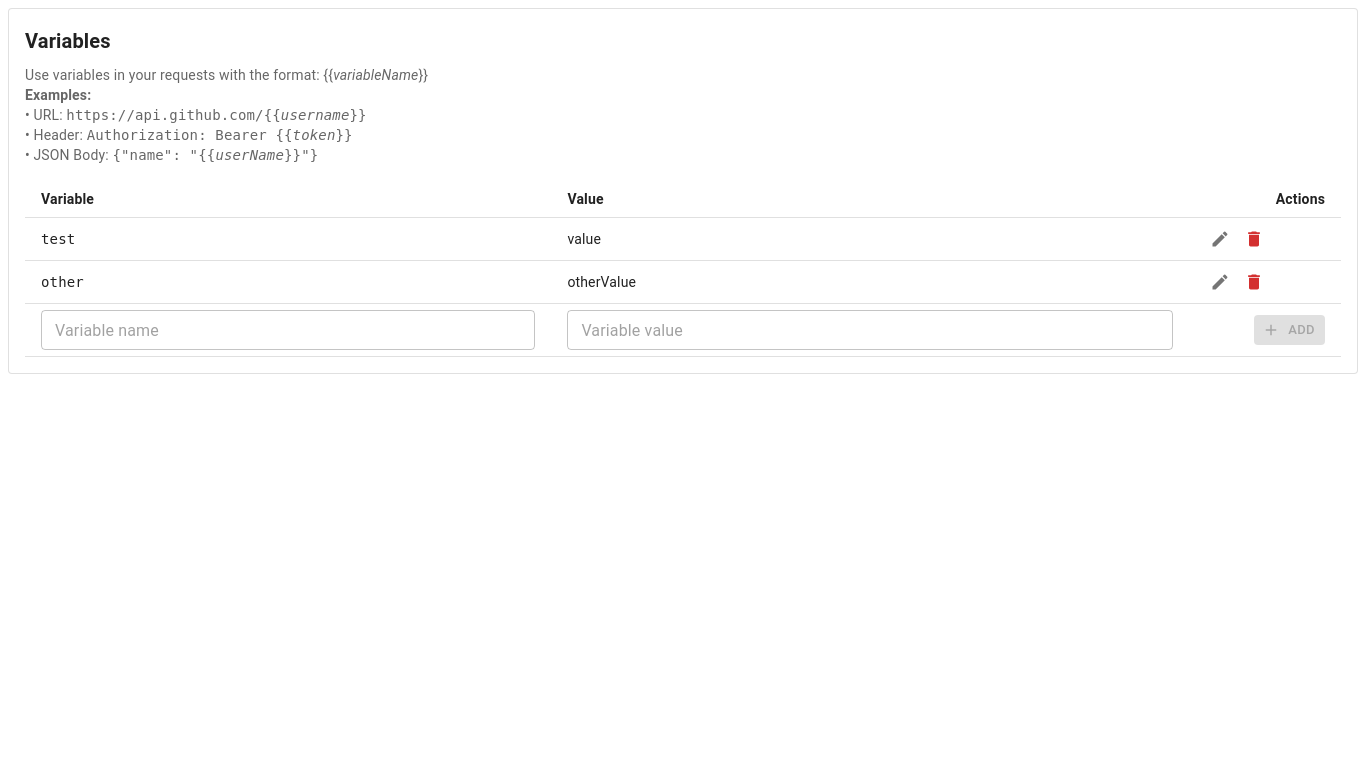
Test: ExistingVariables › should show error snackbar when saving with duplicate name
Click the button titled "Edit" in the row of "test".
click(1220, 239)  # box left=1205, top=224, right=1235, bottom=254
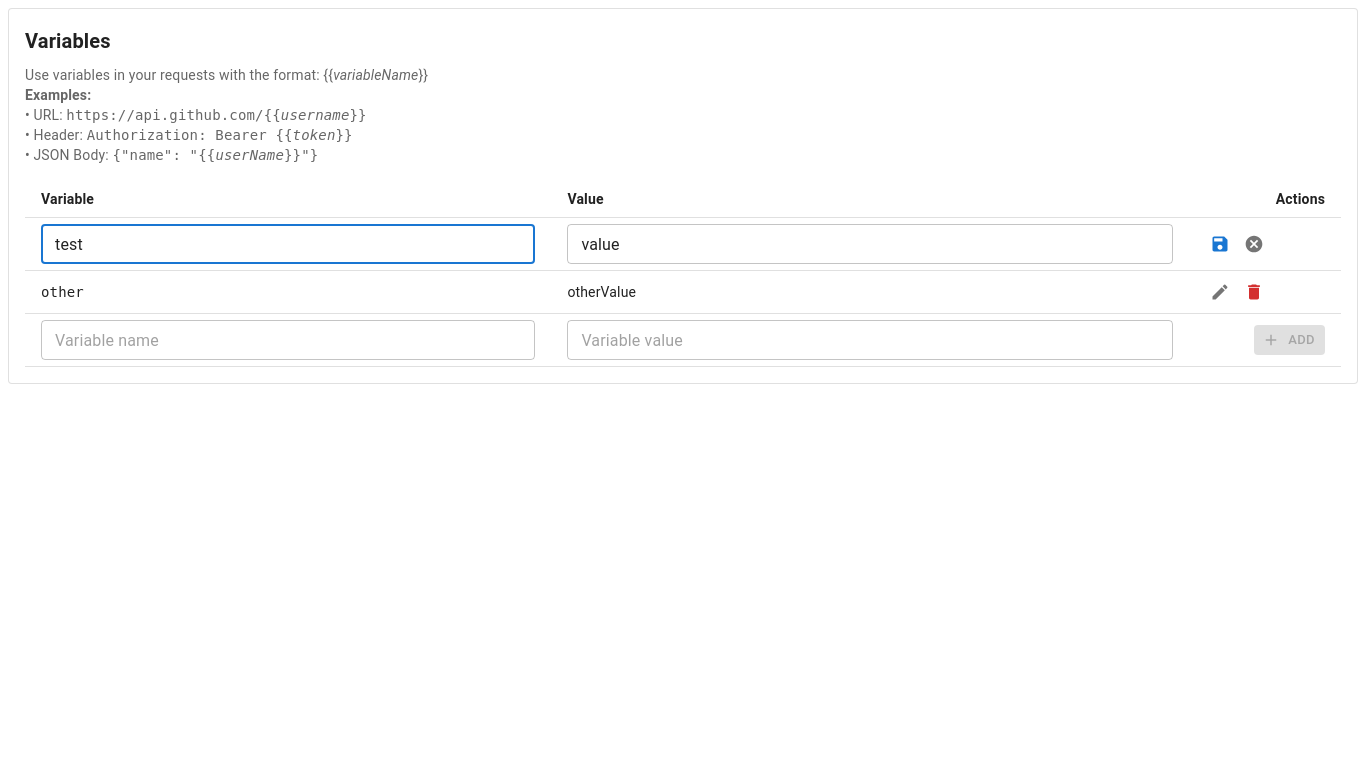
Replace the text in the 1st field showing "test" with "other" at (288, 244), box left=41, top=224, right=535, bottom=264
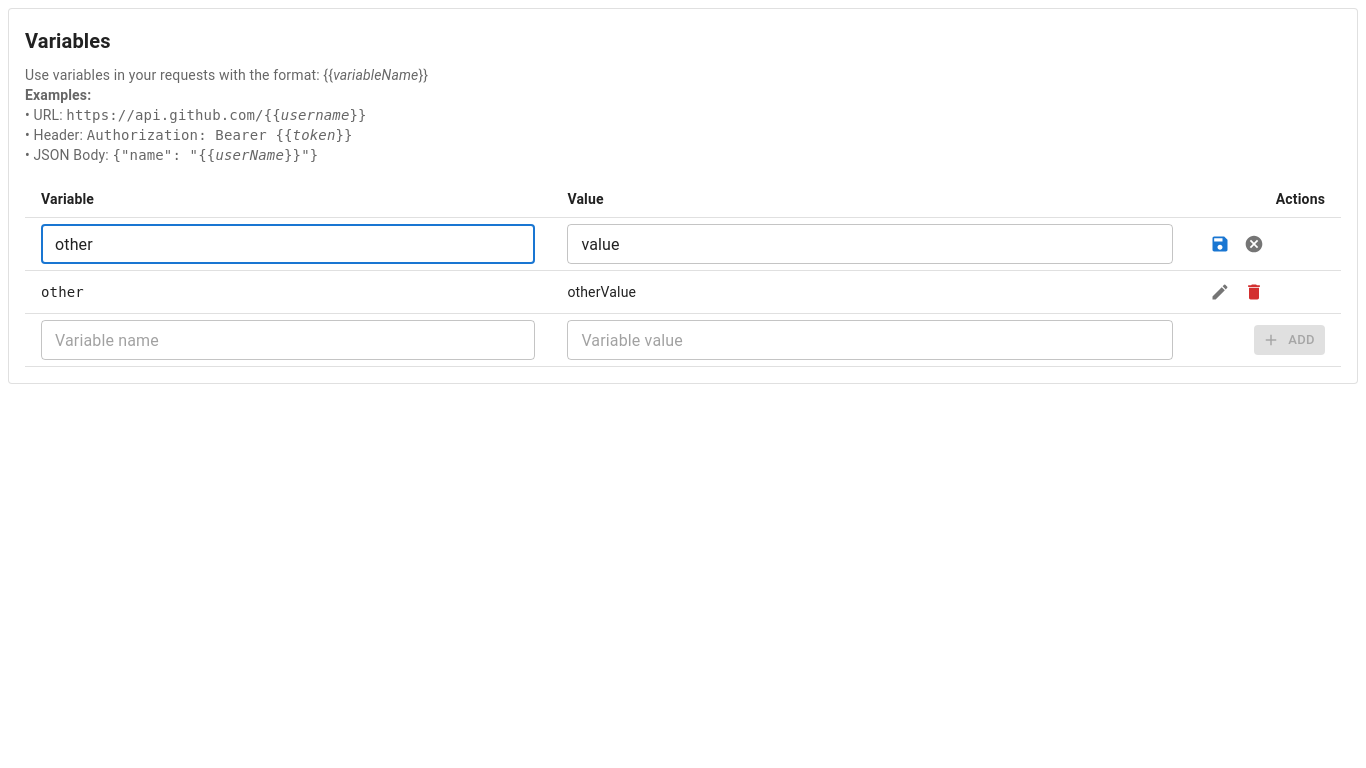
Click the button titled "Save".
click(1220, 244)  # box left=1205, top=229, right=1235, bottom=259
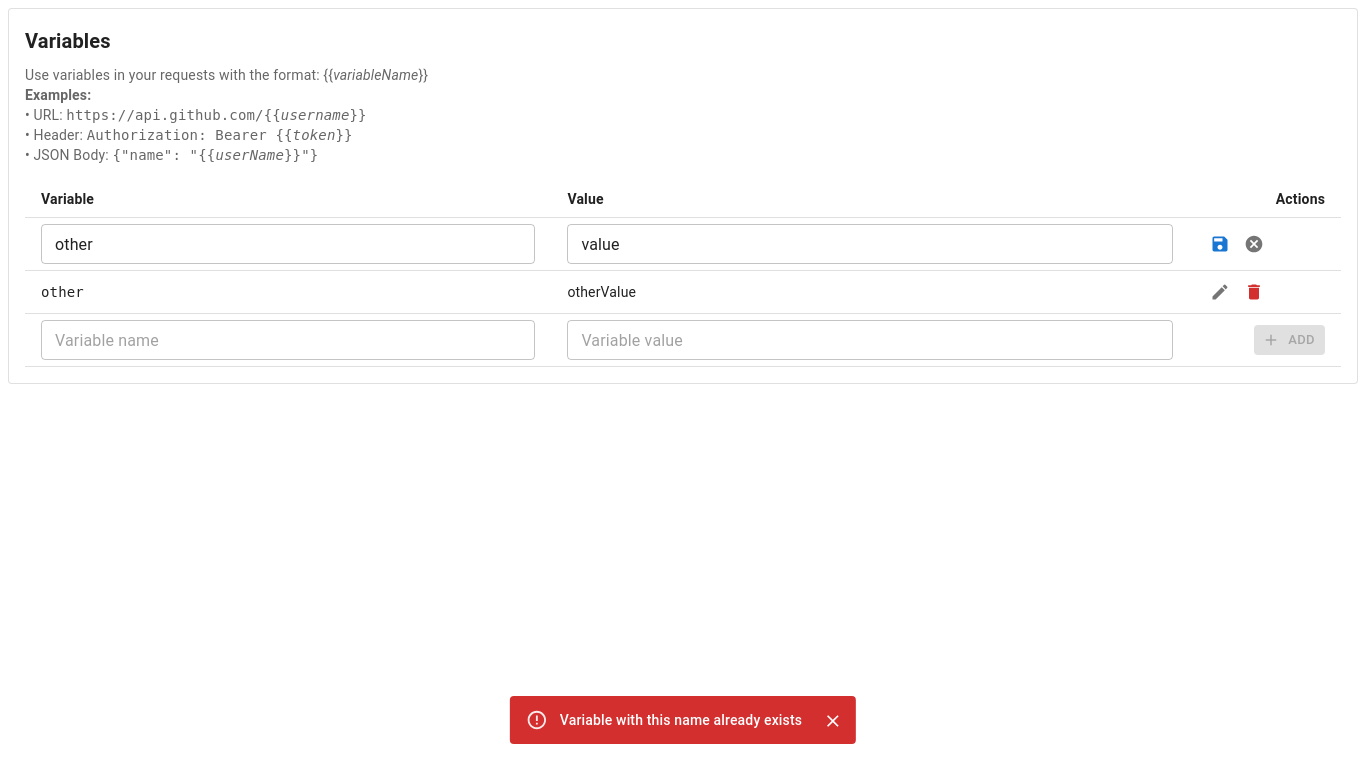
Now the text "Variable with this name already exists" is shown, box left=560, top=712, right=802, bottom=728
